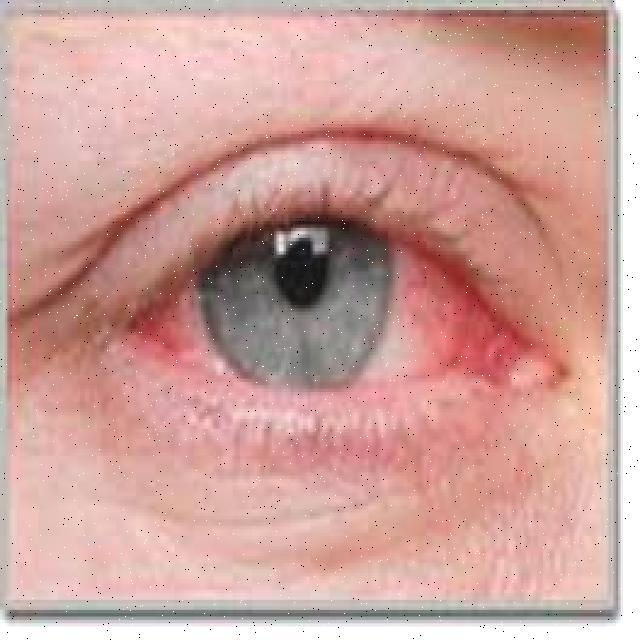Conjunctivitis: (108, 224, 573, 416)
